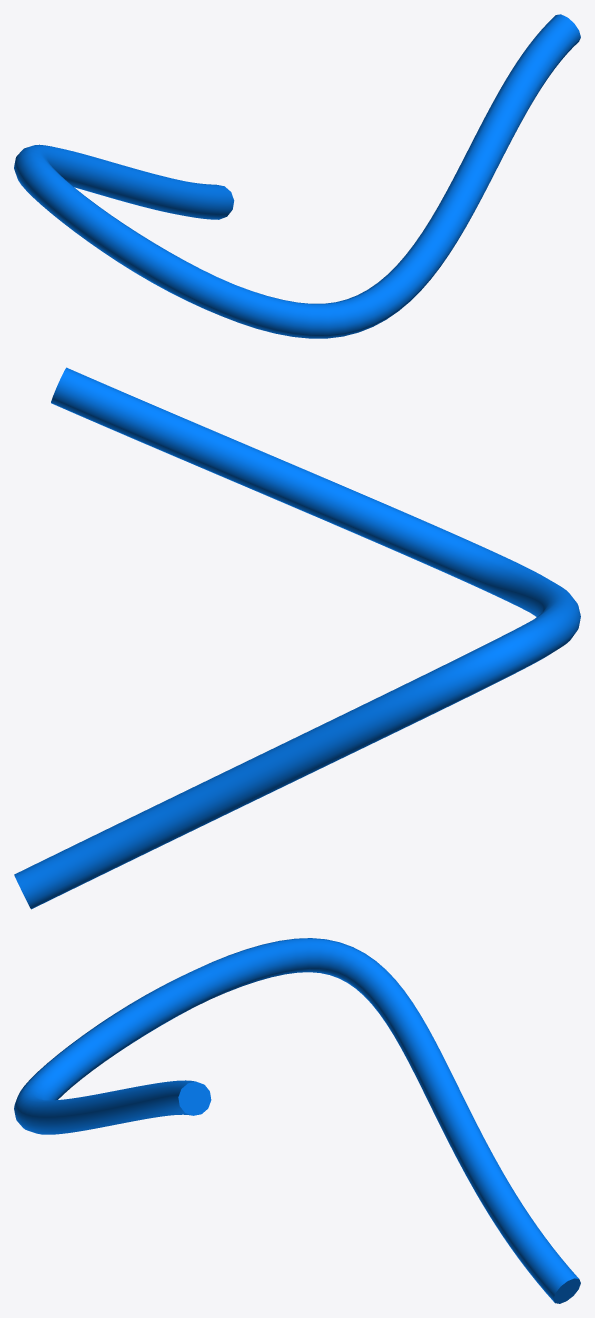
Rendered from 3DPX-018171.glb.
The picture shows the model from 3 angles, top to bottom: view 1: azimuth 30°, elevation 25°; view 2: azimuth 150°, elevation 25°; view 3: azimuth 270°, elevation 25°; orthographic projection. The views are drawn at different scales.
Visible parts, largest first — view 1: ribbons; view 2: ribbons; view 3: ribbons.
Boxes of the visible parts, x1,y1,x2,y2 form: ribbons: [14, 14, 580, 338]; ribbons: [14, 367, 580, 909]; ribbons: [14, 938, 580, 1303].
Bounding box in the file's own units: 6.41 × 3.8 × 6.59.
